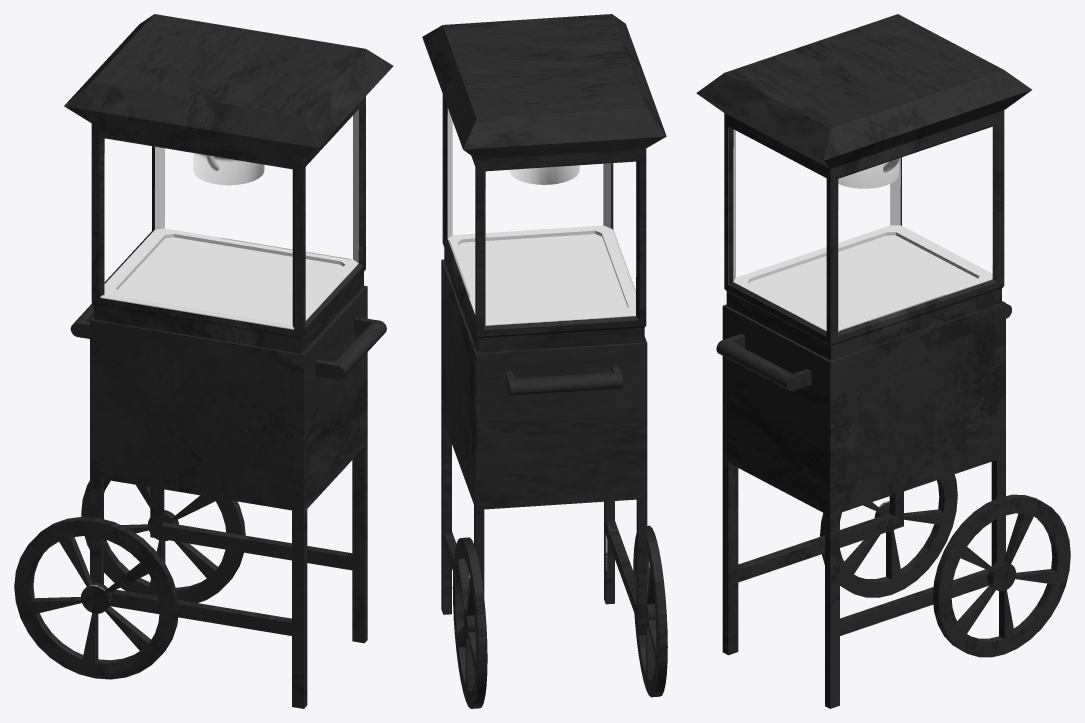
Rendered from PopCorn.fbx.
The picture shows the model from 3 angles, left to right: view 1: azimuth 30°, elevation 25°; view 2: azimuth 150°, elevation 25°; view 3: azimuth 270°, elevation 25°; orthographic projection. The views are drawn at different scales.
Visible parts, largest first — view 1: Cylinder.006; view 2: Cylinder.006; view 3: Cylinder.006.
Boxes of the visible parts, x1,y1,x2,y2 form: Cylinder.006: (14, 14, 393, 708); Cylinder.006: (422, 14, 667, 708); Cylinder.006: (696, 14, 1070, 708).
Size of the model in its own units: 208 by 375 by 220.
